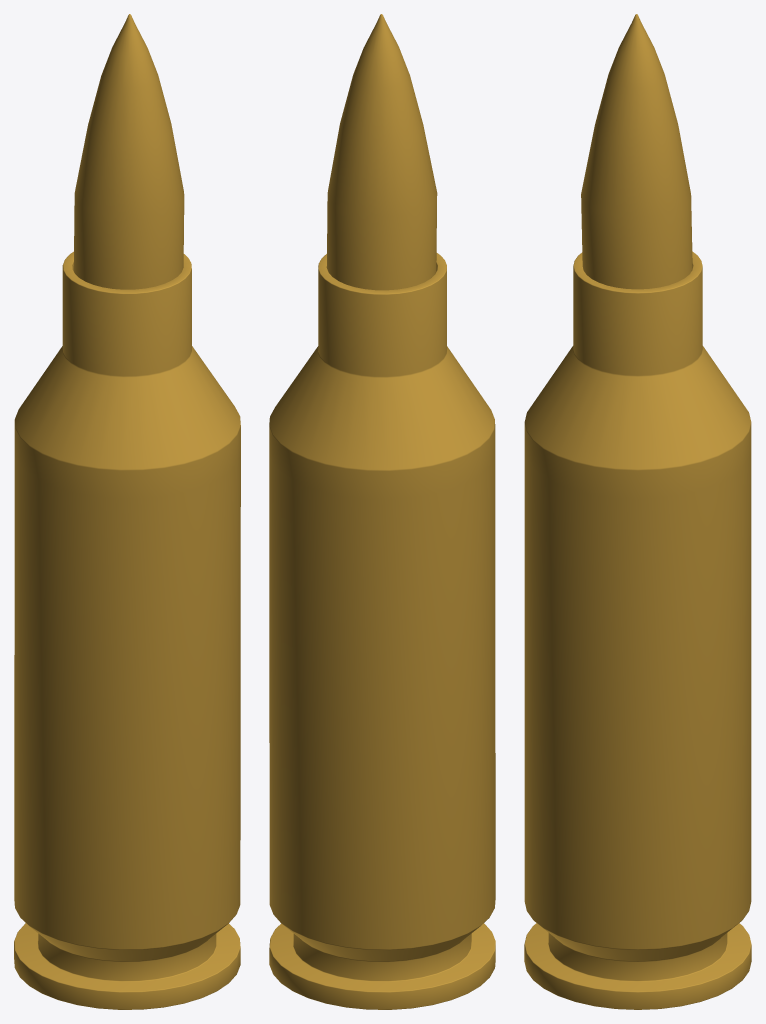
File: finalbullet.obj
3 renders of one model, left to right at view 1: azimuth 30°, elevation 25°; view 2: azimuth 150°, elevation 25°; view 3: azimuth 270°, elevation 25°, orthographic.
Visible parts, largest first — view 1: base, Tip; view 2: base, Tip; view 3: base, Tip.
Part boxes in pixels (bbox=[...]): base: bbox=[14, 251, 240, 1009]; Tip: bbox=[73, 14, 184, 289]; base: bbox=[269, 253, 495, 1009]; Tip: bbox=[326, 14, 437, 290]; base: bbox=[524, 251, 751, 1009]; Tip: bbox=[581, 14, 692, 289].
Size of the model in its own units: 2.98 by 13.72 by 2.98.
